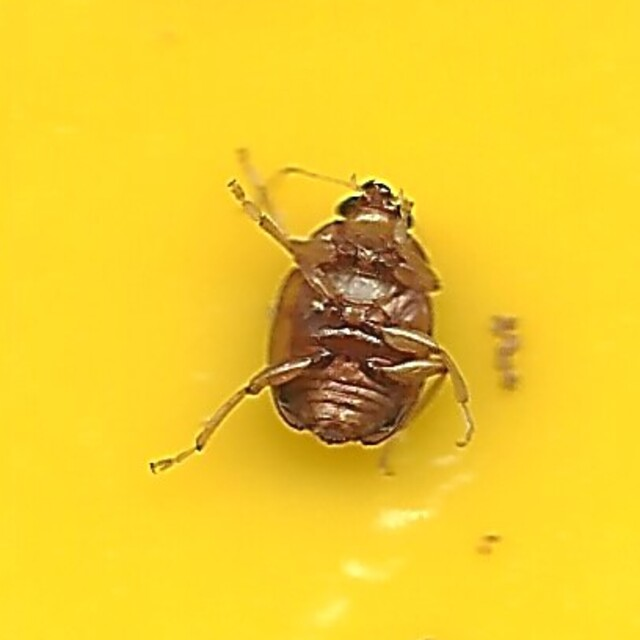Coleoptera: (157, 162, 483, 478)
